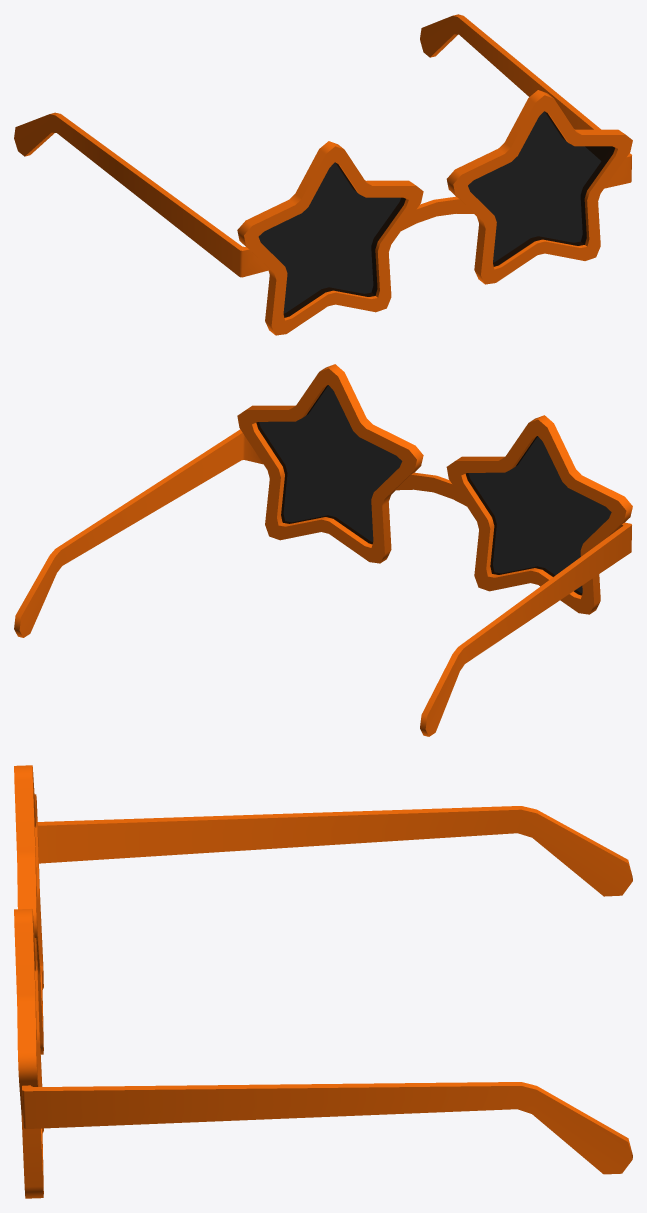
The model's file is StarSunglasses.fbx.
3 views of the same model, one above another, from view 1: azimuth 30°, elevation 25°; view 2: azimuth 150°, elevation 25°; view 3: azimuth 270°, elevation 25° (orthographic). The views are drawn at different scales.
Parts seen in each view (by area): view 1: StarSunglasses; view 2: StarSunglasses; view 3: StarSunglasses.
Boxes of the visible parts, <box> form: StarSunglasses: <box>14,14,632,335</box>; StarSunglasses: <box>14,364,632,736</box>; StarSunglasses: <box>14,765,632,1198</box>.
Bounding box in the file's own units: 72.27 × 30.25 × 66.94.
